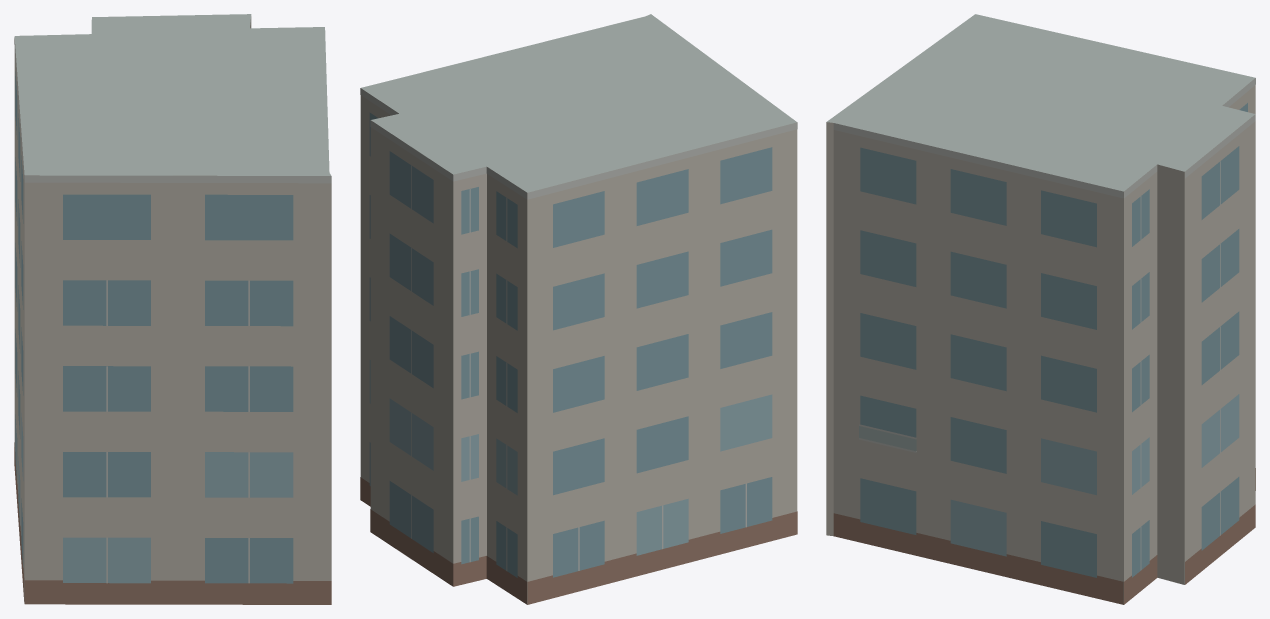
File: survey-upis-33020697.glb
3 renders of one model, left to right at view 1: azimuth 30°, elevation 25°; view 2: azimuth 150°, elevation 25°; view 3: azimuth 270°, elevation 25°, orthographic. The views are drawn at different scales.
Visible parts, largest first — view 1: survey-upis-33020697.tmp; view 2: survey-upis-33020697.tmp; view 3: survey-upis-33020697.tmp.
Part boxes in pixels (x1=…): survey-upis-33020697.tmp: x1=14, y1=14, x2=331, y2=604; survey-upis-33020697.tmp: x1=360, y1=14, x2=797, y2=604; survey-upis-33020697.tmp: x1=826, y1=14, x2=1255, y2=604.
Bounding box in the file's own units: 13.37 × 14.5 × 13.66.
